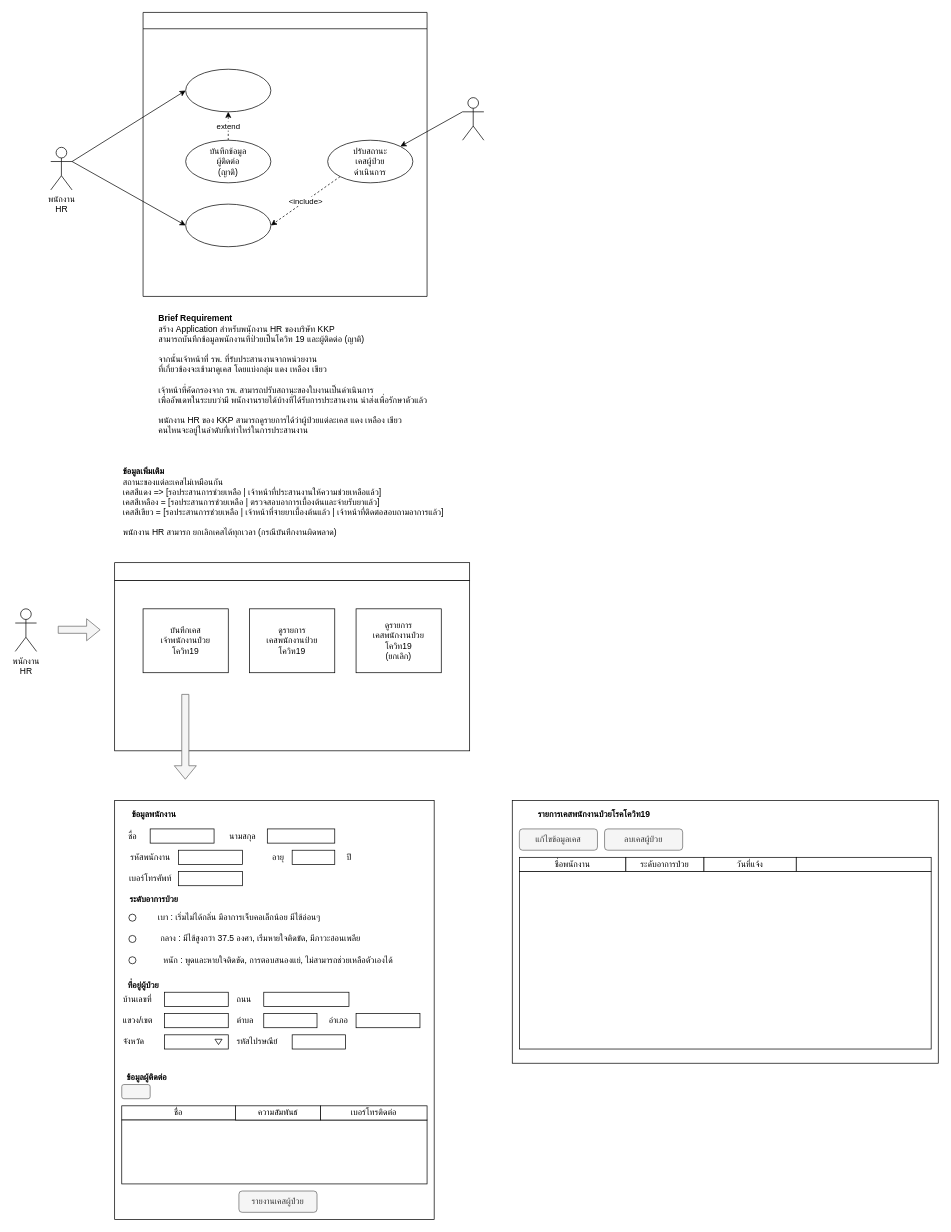
Some shapes in this 951 by 1232 pixel diagram are drawn without their labels. The shapes that lost their labels are listed below. From the top down, each one's box as (x1, y1, x2, y2) in pixels, then its label:
(185, 69, 271, 112): บันทึกเคสข้อมูล ผู้ป่วย
(462, 97, 484, 140): เจ้าหน้าที่คัดกรอง
(142, 12, 427, 296): แจ้งเคส Covid19
(185, 203, 271, 247): ดูรายการ เคสและข้อมูล สถานะ
(796, 857, 931, 872): สถานะการประสานงาน
(121, 1084, 150, 1099): เพิ่ม
